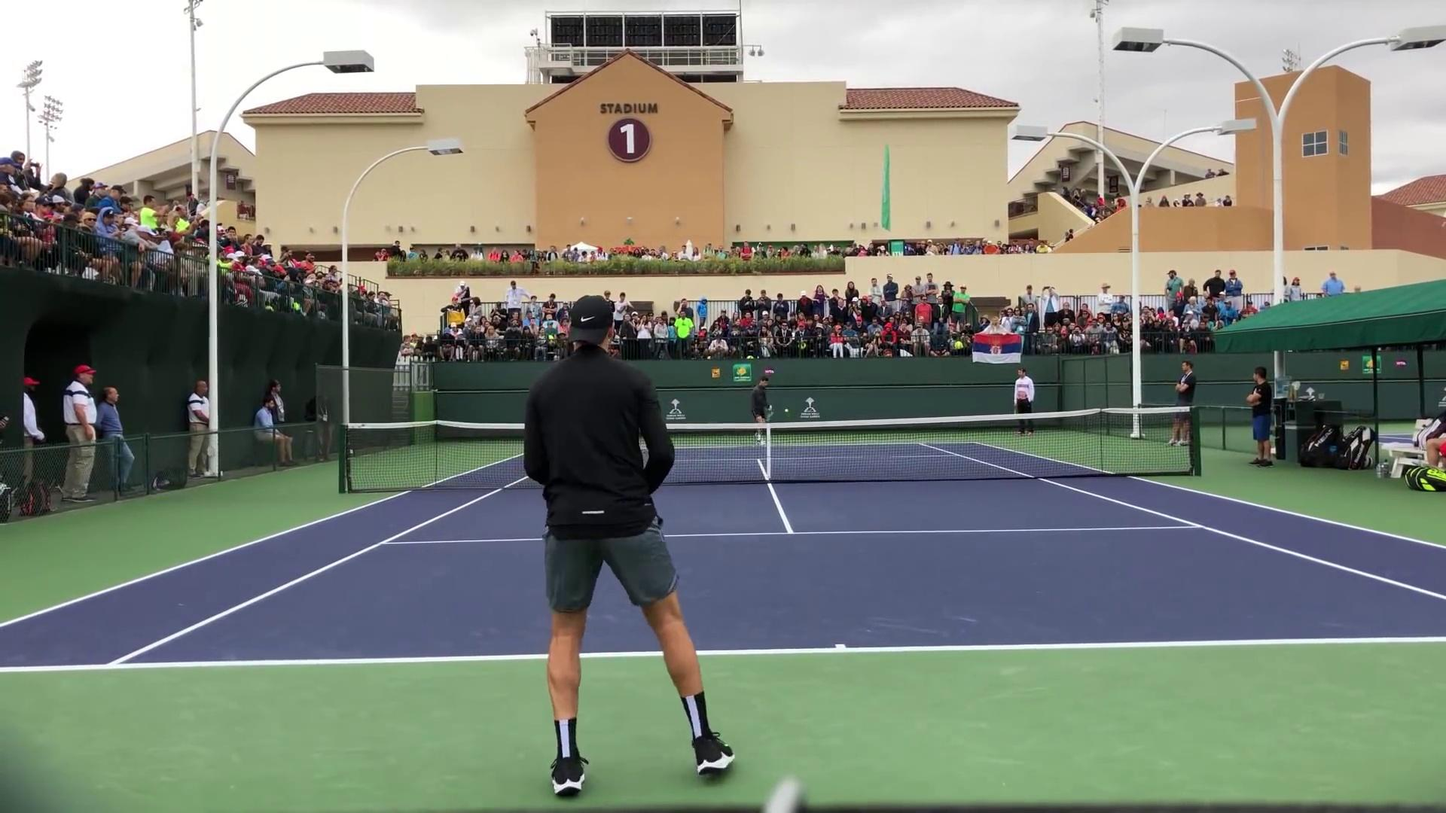ball: (783, 407, 790, 414)
